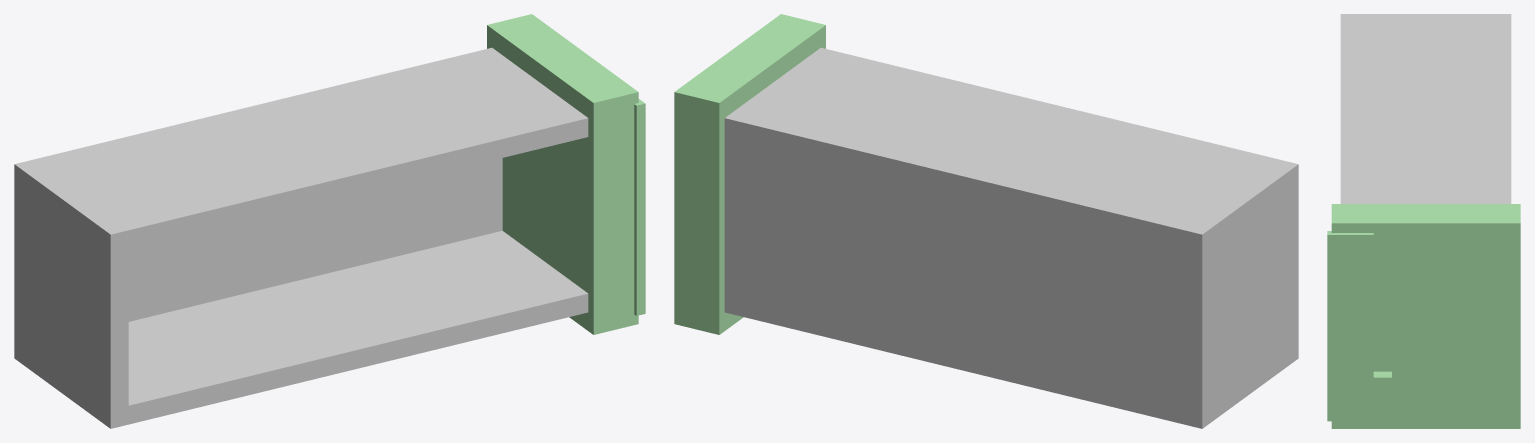
File: ROOM73B2-TOSHIBA-CLACIO-REFRIGERATOR-BODYSET4_link_mesh.dae
The picture shows the model from 3 angles, left to right: view 1: azimuth 30°, elevation 25°; view 2: azimuth 150°, elevation 25°; view 3: azimuth 270°, elevation 25°; orthographic projection. The views are drawn at different scales.
Visible parts, largest first — view 1: ROOM73B2-TOSHIBA-CLACIO-REFRIGERATOR-BODYSET4_link (×2); view 2: ROOM73B2-TOSHIBA-CLACIO-REFRIGERATOR-BODYSET4_link (×2); view 3: ROOM73B2-TOSHIBA-CLACIO-REFRIGERATOR-BODYSET4_link (×2).
Part boxes in pixels (left/top/right/bottom): ROOM73B2-TOSHIBA-CLACIO-REFRIGERATOR-BODYSET4_link (×2): left=14, top=14, right=645, bottom=428; ROOM73B2-TOSHIBA-CLACIO-REFRIGERATOR-BODYSET4_link (×2): left=674, top=14, right=1298, bottom=428; ROOM73B2-TOSHIBA-CLACIO-REFRIGERATOR-BODYSET4_link (×2): left=1327, top=14, right=1520, bottom=428.
Size of the model in its own units: 0.585 by 0.246 by 0.2095.
